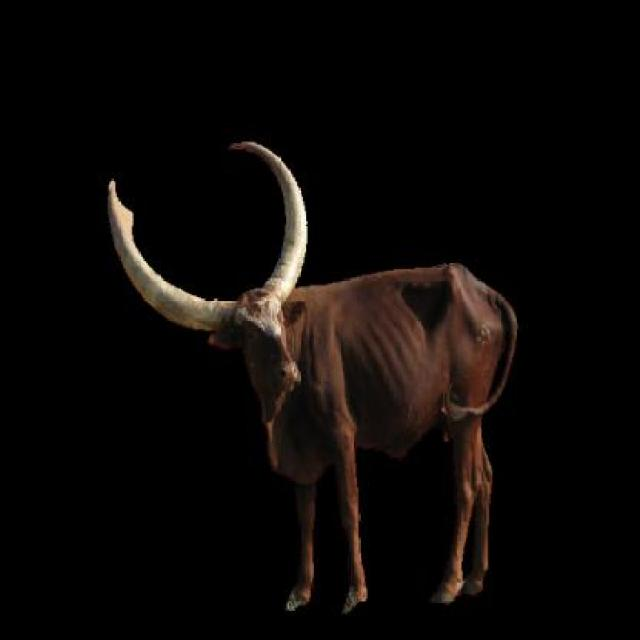Cow: (105, 131, 523, 629)
